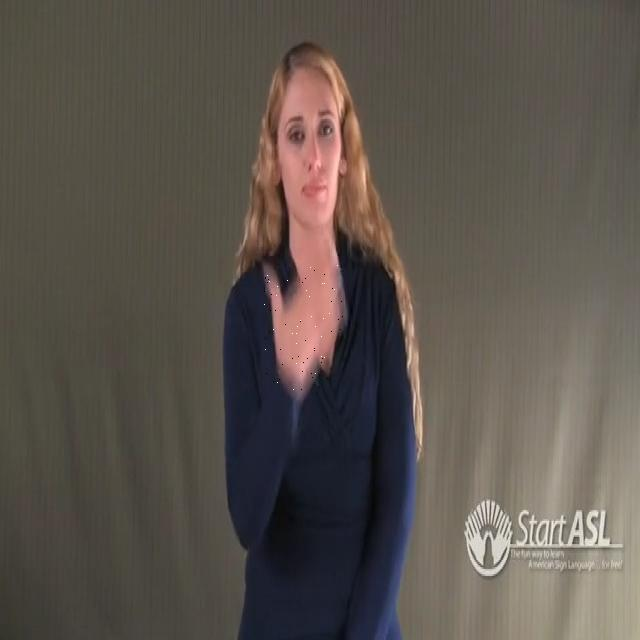thank-you: (264, 262, 346, 390)
